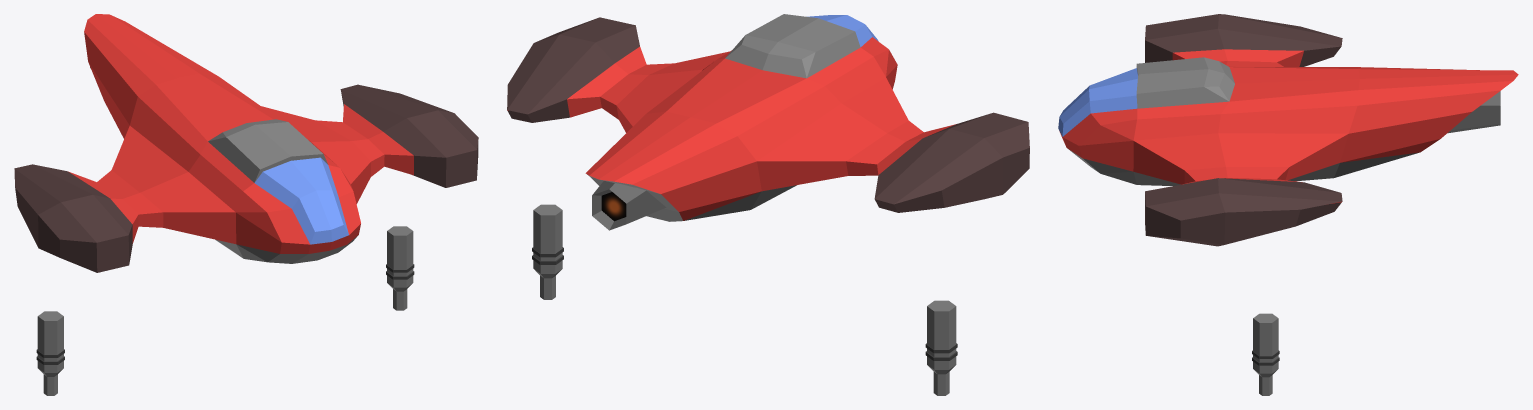
File: spaceship2.fbx
The picture shows the model from 3 angles, left to right: view 1: azimuth 30°, elevation 25°; view 2: azimuth 150°, elevation 25°; view 3: azimuth 270°, elevation 25°; orthographic projection. The views are drawn at different scales.
Visible parts, largest first — view 1: ShipBody, Left Gun, Right Gun; view 2: ShipBody, Right Gun, Left Gun, Engine; view 3: ShipBody, Left Gun, Engine.
Part boxes in pixels (x1,y1,x2,y2): ShipBody: (14, 14, 478, 272); Left Gun: (386, 226, 414, 310); Right Gun: (36, 311, 64, 395); ShipBody: (507, 14, 1029, 221); Right Gun: (925, 300, 957, 395); Left Gun: (532, 204, 563, 299); Engine: (592, 181, 666, 230); ShipBody: (1058, 14, 1518, 246); Left Gun: (1252, 313, 1279, 395); Engine: (1447, 91, 1500, 133).
Bounding box in the file's own units: 5.36 × 3.03 × 5.24.
